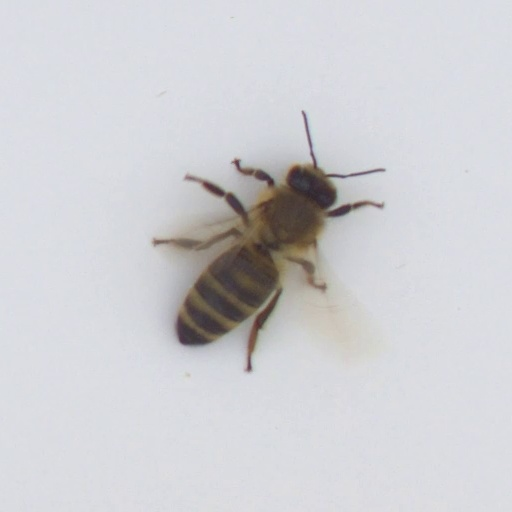Bee: (157, 155, 348, 362)
Thorax: (248, 185, 324, 246)
